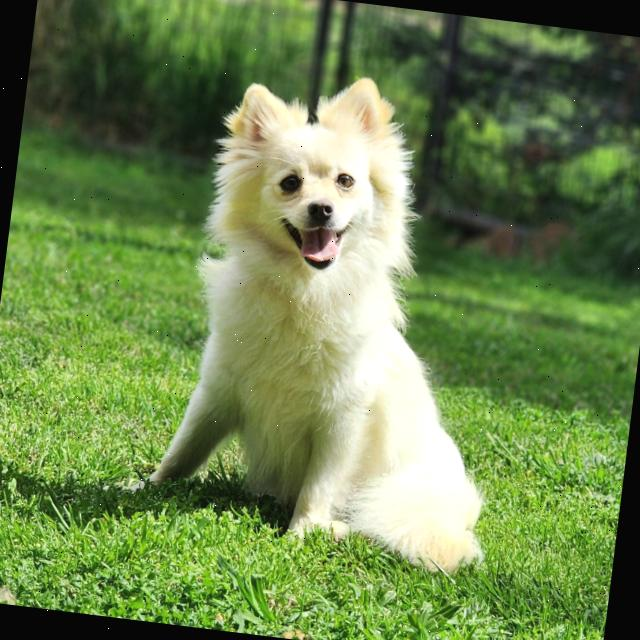pomeranian_dog: (190, 51, 440, 302)
